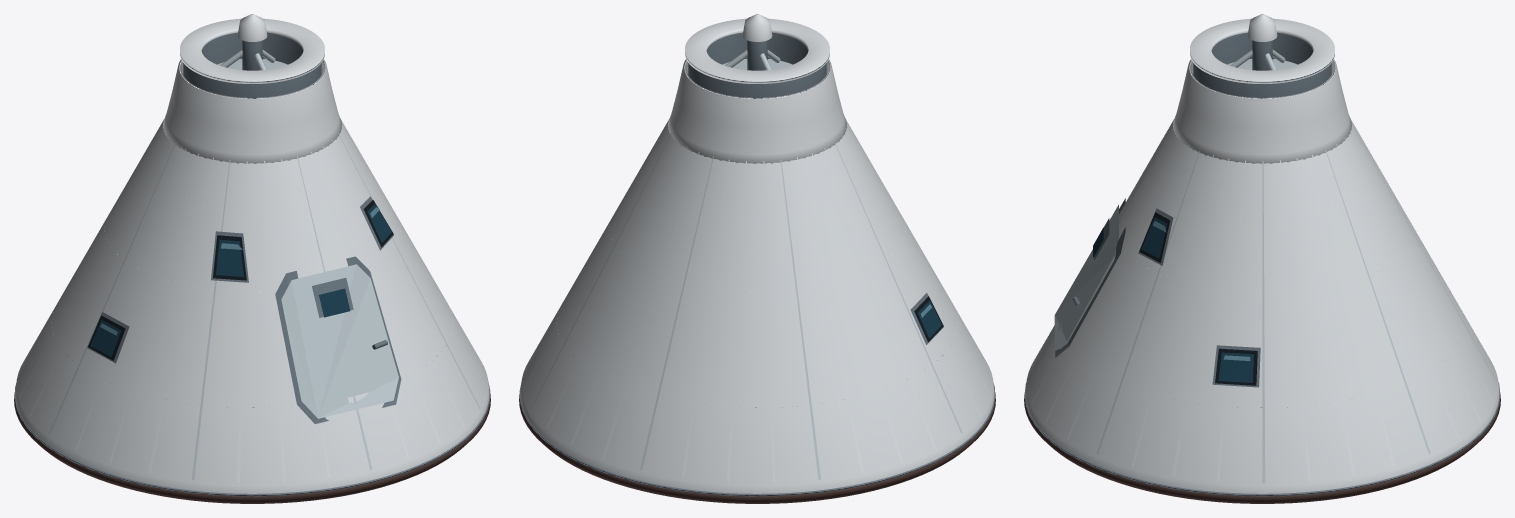
File: columbia_command_module.glb
3 views of the same model, side by side, from view 1: azimuth 30°, elevation 25°; view 2: azimuth 150°, elevation 25°; view 3: azimuth 270°, elevation 25° (orthographic).
Parts seen in each view (by area): view 1: apollo_cmskinmesh.mesh_Polished_aluminum, apollo_cmside_hatchmesh.mesh_Satin_aluminum, apollo_cmforward_covermesh, apollo_cmdocking_tunnelmesh.mesh_Polished_aluminum, apollo_cmdocking_tunnelmesh.mesh_Machined_steel, apollo_cmheat_shieldmesh.mesh_Phenolic_heat_shield, apollo_cmside_hatchmesh.mesh_Machined_steel, apollo_cmskinmesh.mesh_Satin_aluminum, apollo_cmheat_shieldmesh.mesh_Machined_steel, apollo_cmrendezvous_window_leftmesh.mesh_Blue-black_window, apollo_cmdocking_tunnelprobemesh.mesh_Polished_aluminum, apollo_cmside_hatchmesh.mesh_Blue-black_window (+2 smaller); view 2: apollo_cmskinmesh.mesh_Polished_aluminum, apollo_cmforward_covermesh, apollo_cmdocking_tunnelmesh.mesh_Polished_aluminum, apollo_cmdocking_tunnelmesh.mesh_Machined_steel, apollo_cmheat_shieldmesh.mesh_Phenolic_heat_shield, apollo_cmskinmesh.mesh_Satin_aluminum, apollo_cmheat_shieldmesh.mesh_Machined_steel, apollo_cmdocking_tunnelprobemesh.mesh_Polished_aluminum, apollo_cmdocking_tunnelprobemesh.mesh_Machined_steel; view 3: apollo_cmskinmesh.mesh_Polished_aluminum, apollo_cmforward_covermesh, apollo_cmdocking_tunnelmesh.mesh_Polished_aluminum, apollo_cmdocking_tunnelmesh.mesh_Machined_steel, apollo_cmheat_shieldmesh.mesh_Phenolic_heat_shield, apollo_cmside_hatchmesh.mesh_Satin_aluminum, apollo_cmskinmesh.mesh_Satin_aluminum, apollo_cmheat_shieldmesh.mesh_Machined_steel, apollo_cmside_window_rightmesh.mesh_Blue-black_window, apollo_cmside_hatchmesh.mesh_Machined_steel, apollo_cmdocking_tunnelprobemesh.mesh_Polished_aluminum, apollo_cmrendezvous_window_rightmesh.mesh_Blue-black_window (+2 smaller).
Part boxes in pixels (x1,y1,x2,y2): apollo_cmskinmesh.mesh_Polished_aluminum: (15,120,489,493); apollo_cmside_hatchmesh.mesh_Satin_aluminum: (281,264,398,418); apollo_cmforward_covermesh: (162,59,341,163); apollo_cmdocking_tunnelmesh.mesh_Polished_aluminum: (180,18,324,83); apollo_cmdocking_tunnelmesh.mesh_Machined_steel: (183,32,321,97); apollo_cmheat_shieldmesh.mesh_Phenolic_heat_shield: (14,355,490,503); apollo_cmside_hatchmesh.mesh_Machined_steel: (275,256,401,423); apollo_cmskinmesh.mesh_Satin_aluminum: (49,133,480,479); apollo_cmheat_shieldmesh.mesh_Machined_steel: (14,382,490,496); apollo_cmrendezvous_window_leftmesh.mesh_Blue-black_window: (216,239,243,276); apollo_cmdocking_tunnelprobemesh.mesh_Polished_aluminum: (237,14,267,41); apollo_cmside_hatchmesh.mesh_Blue-black_window: (319,288,350,317); apollo_cmskinmesh.mesh_Polished_aluminum: (520,119,994,493); apollo_cmforward_covermesh: (668,59,847,163); apollo_cmdocking_tunnelmesh.mesh_Polished_aluminum: (685,18,829,83); apollo_cmdocking_tunnelmesh.mesh_Machined_steel: (688,32,826,97); apollo_cmheat_shieldmesh.mesh_Phenolic_heat_shield: (519,355,995,503); apollo_cmskinmesh.mesh_Satin_aluminum: (530,134,962,479); apollo_cmheat_shieldmesh.mesh_Machined_steel: (519,382,995,496); apollo_cmdocking_tunnelprobemesh.mesh_Polished_aluminum: (742,14,772,41); apollo_cmdocking_tunnelprobemesh.mesh_Machined_steel: (747,40,767,70); apollo_cmskinmesh.mesh_Polished_aluminum: (1025,118,1499,493); apollo_cmforward_covermesh: (1173,59,1351,163); apollo_cmdocking_tunnelmesh.mesh_Polished_aluminum: (1190,18,1334,83); apollo_cmdocking_tunnelmesh.mesh_Machined_steel: (1193,32,1331,97); apollo_cmheat_shieldmesh.mesh_Phenolic_heat_shield: (1024,394,1500,503); apollo_cmside_hatchmesh.mesh_Satin_aluminum: (1054,204,1118,351); apollo_cmskinmesh.mesh_Satin_aluminum: (1027,124,1497,483); apollo_cmheat_shieldmesh.mesh_Machined_steel: (1024,382,1500,496); apollo_cmside_window_rightmesh.mesh_Blue-black_window: (1218,352,1253,382); apollo_cmside_hatchmesh.mesh_Machined_steel: (1055,198,1125,357); apollo_cmdocking_tunnelprobemesh.mesh_Polished_aluminum: (1247,14,1277,41); apollo_cmrendezvous_window_rightmesh.mesh_Blue-black_window: (1141,217,1167,258).
Bounding box in the file's own units: 3.91 × 3.79 × 3.91.
